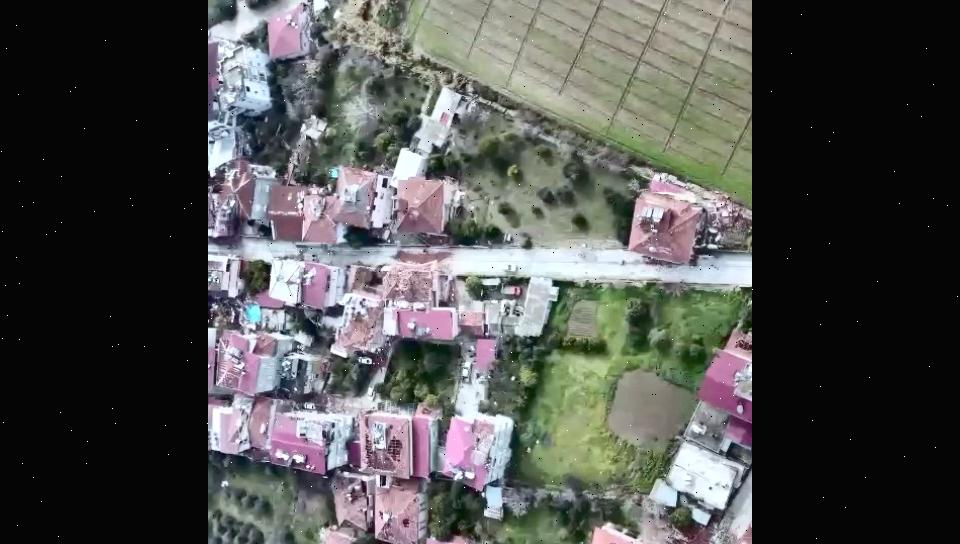kapali: (370, 247, 469, 274), (709, 504, 752, 544)
